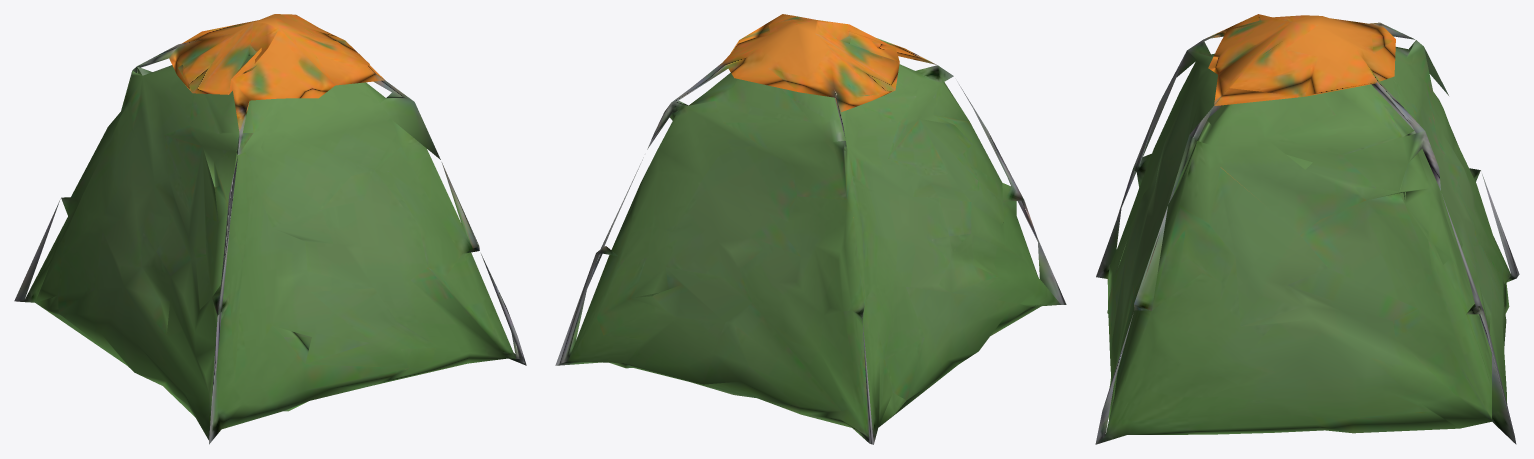
Rendered from tenda.glb.
3 renders of one model, left to right at view 1: azimuth 30°, elevation 25°; view 2: azimuth 150°, elevation 25°; view 3: azimuth 270°, elevation 25°, orthographic. The views are drawn at different scales.
Visible parts, largest first — view 1: tripo_node_90cf5885-ac74-415a-87ee-99191a92bc98; view 2: tripo_node_90cf5885-ac74-415a-87ee-99191a92bc98; view 3: tripo_node_90cf5885-ac74-415a-87ee-99191a92bc98.
Boxes of the visible parts, x1=… form: tripo_node_90cf5885-ac74-415a-87ee-99191a92bc98: x1=14, y1=14, x2=526, y2=444; tripo_node_90cf5885-ac74-415a-87ee-99191a92bc98: x1=555, y1=14, x2=1066, y2=444; tripo_node_90cf5885-ac74-415a-87ee-99191a92bc98: x1=1095, y1=14, x2=1519, y2=444.
Bounding box in the file's own units: 1.06 × 1 × 1.12.
1 material, 1 textured.
